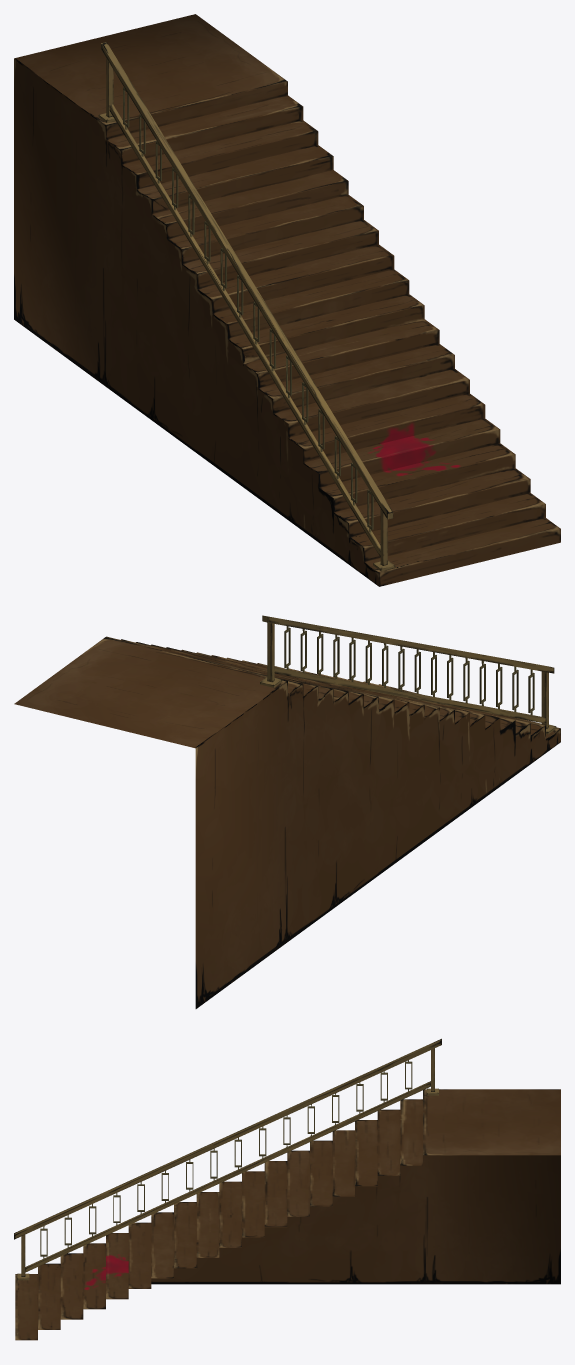
File: New Stairs.fbx
3 renders of one model, top to bottom at view 1: azimuth 30°, elevation 25°; view 2: azimuth 150°, elevation 25°; view 3: azimuth 270°, elevation 25°, orthographic. The views are drawn at different scales.
Parts seen in each view (by area): view 1: Stairs; view 2: Stairs; view 3: Stairs.
Boxes of the visible parts, box(x1,y1,x2,y2) form: Stairs: box(14, 14, 560, 586); Stairs: box(14, 615, 560, 1008); Stairs: box(14, 1038, 560, 1340).
Size of the model in its own units: 298 by 521 by 1040.
1 material, 1 textured.
